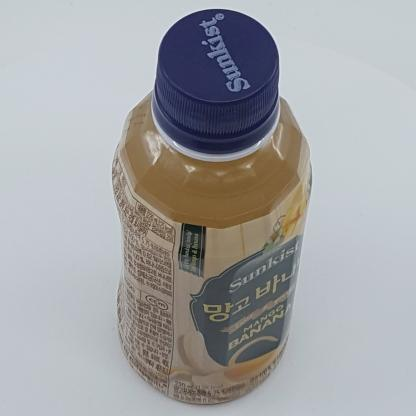-----------220ML: (111, 9, 312, 405)
